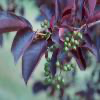Cherry leaf: (21, 33, 48, 92), (71, 44, 88, 75), (49, 44, 63, 81), (50, 23, 65, 47), (67, 45, 82, 62), (81, 34, 93, 53)
